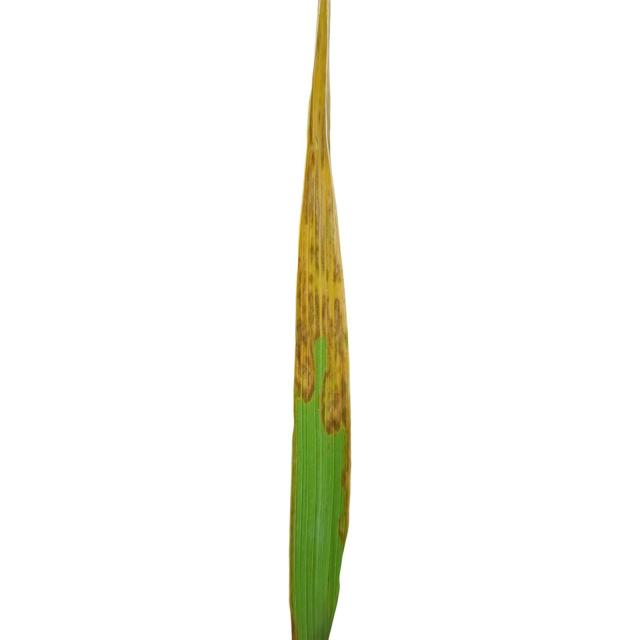Leaf scald: (185, 0, 442, 640)
